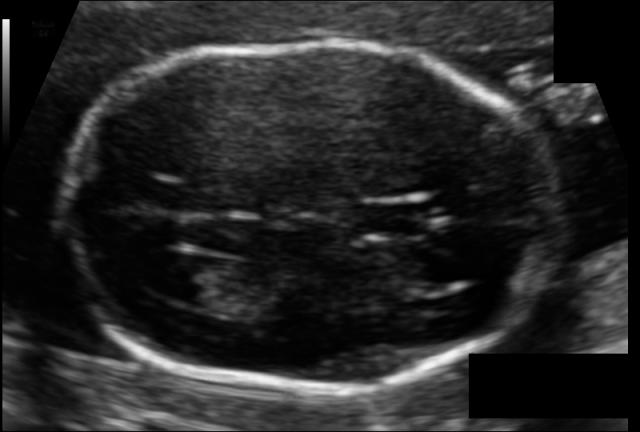CHOROID_PLEXUS: (170, 250, 300, 330)
CSP: (402, 180, 493, 257)
MIDLINE_FALX: (63, 146, 556, 264)
